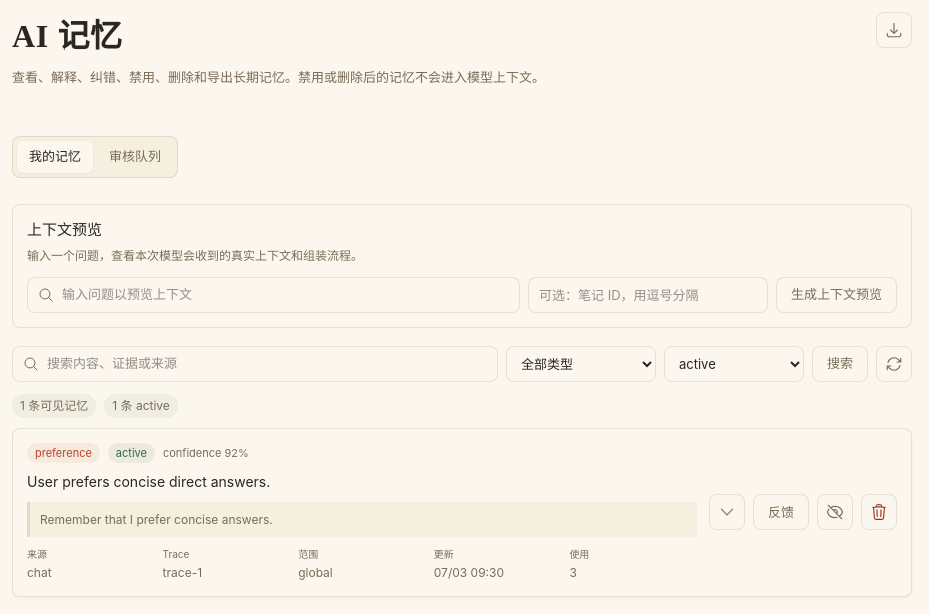
Scenario: MemoryControlPanel behavior › disables and deletes an individual memory through the governance API
The width and height of the screenshot is (929, 614).
expect the text "User prefers concise direct answers." is shown: met, box [27, 473, 270, 490]
Click the button named "禁用记忆 1" at (835,512), box [817, 494, 853, 530]
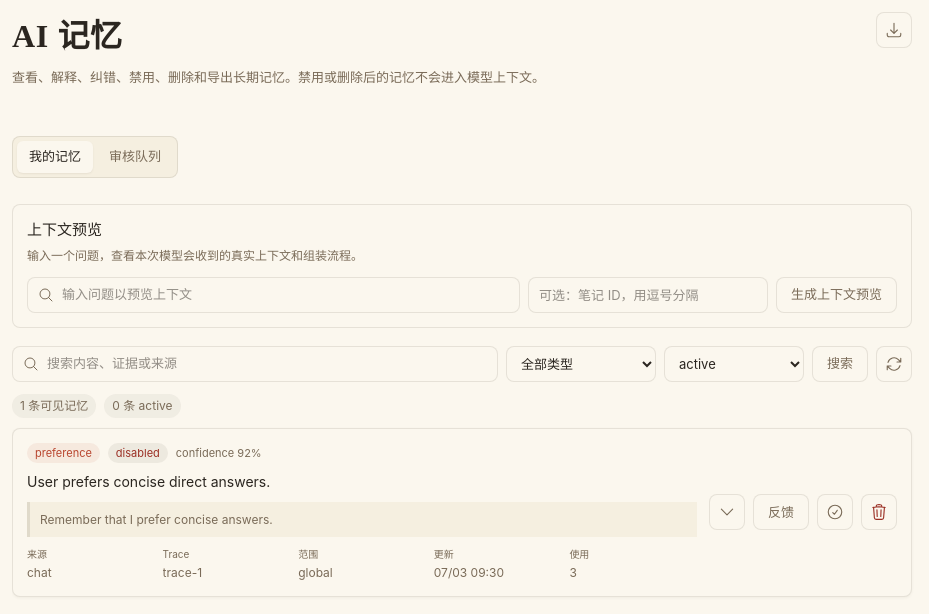
expect the button named "启用记忆 1" is shown: met, box [817, 494, 853, 530]
Click the button named "删除记忆 1" at (879,512), box [861, 494, 897, 530]
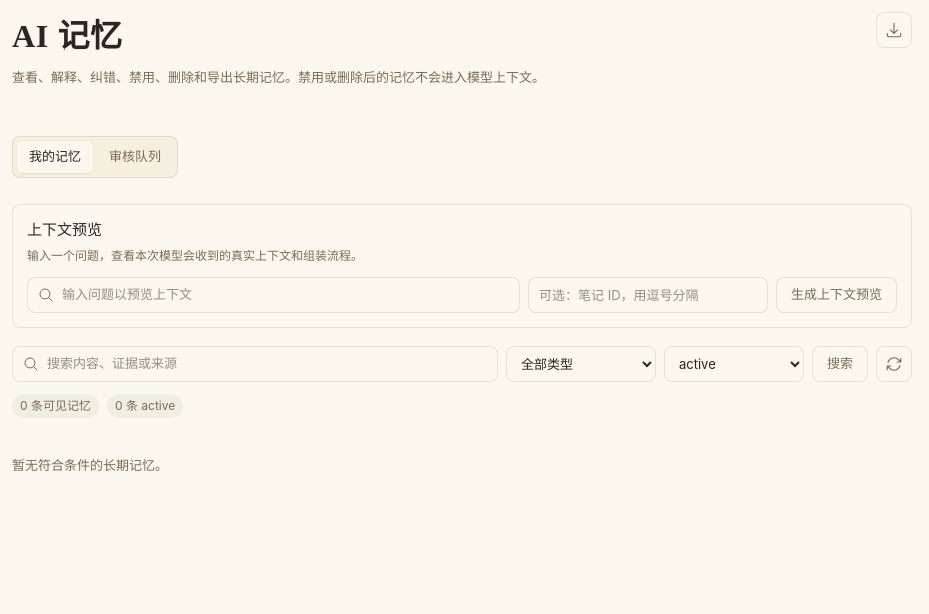
expect the text "User prefers concise direct answers." is gone: met
